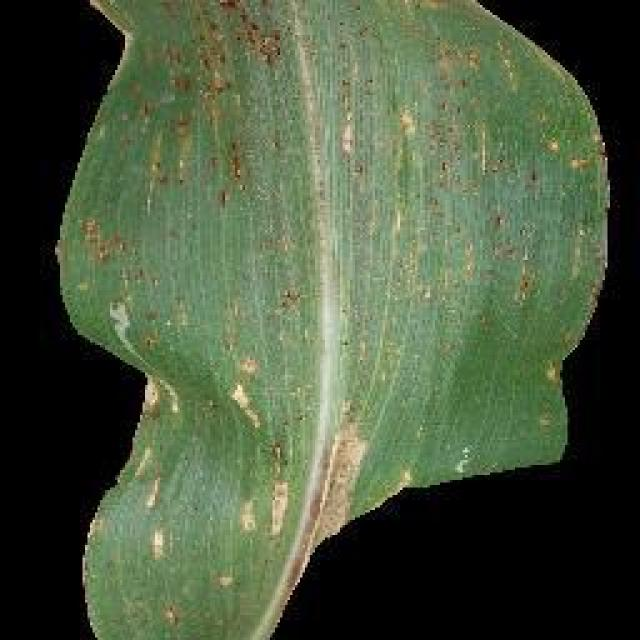Corn Common Rust: (134, 45, 504, 415)
